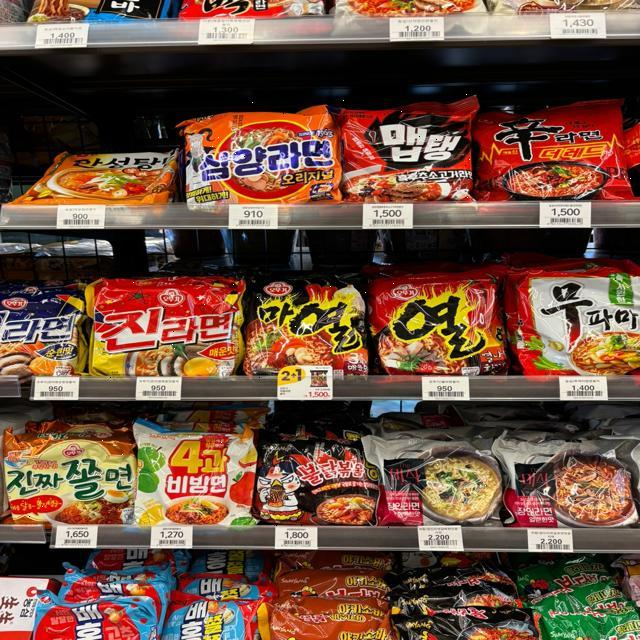product: (482, 97, 631, 206), (181, 102, 335, 202), (97, 276, 242, 382), (341, 92, 474, 203), (374, 274, 505, 375), (520, 266, 640, 376), (132, 420, 255, 523), (248, 279, 367, 379), (257, 432, 378, 530), (507, 442, 637, 529), (7, 438, 132, 522), (383, 444, 502, 528)
